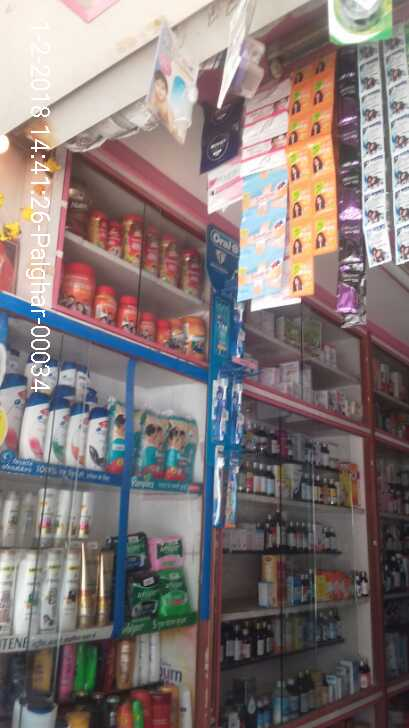beauty: (4, 490, 114, 629), (8, 358, 113, 469)
pharmacy: (127, 530, 190, 618), (135, 408, 200, 482)
